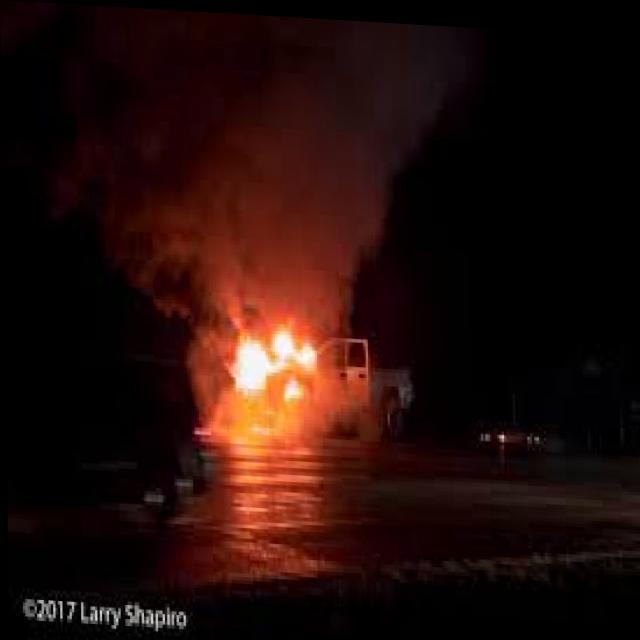fire: (215, 289, 345, 435)
